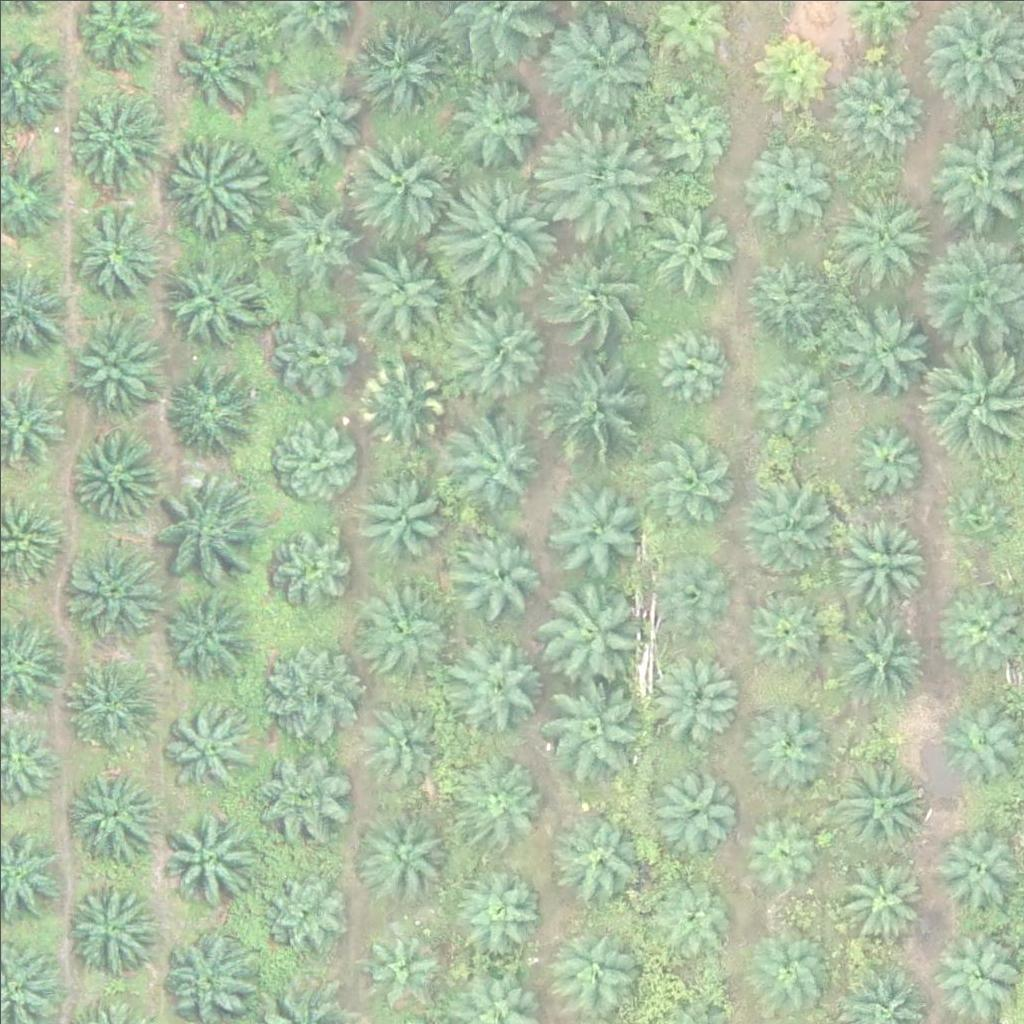Kelapa_Sawit: (536, 569, 649, 683), (146, 466, 259, 579), (438, 169, 550, 283), (537, 345, 649, 459), (341, 124, 453, 237), (545, 11, 657, 124), (545, 126, 657, 239), (541, 239, 653, 352), (63, 83, 163, 184), (159, 355, 259, 456), (163, 243, 263, 344), (163, 127, 263, 228), (348, 238, 448, 339), (449, 77, 549, 178), (537, 477, 637, 578), (638, 193, 738, 294), (743, 477, 843, 578), (834, 189, 934, 290), (830, 749, 930, 850), (827, 609, 927, 710), (552, 799, 652, 900), (537, 674, 637, 775), (353, 579, 453, 680), (253, 746, 353, 847), (255, 642, 355, 743), (152, 807, 252, 908), (159, 692, 259, 793), (155, 583, 255, 684), (61, 540, 161, 641), (62, 764, 162, 865), (64, 422, 164, 522), (63, 317, 163, 417), (161, 12, 261, 112), (260, 68, 360, 168), (353, 12, 453, 112), (454, 296, 554, 396), (829, 511, 929, 611), (835, 295, 935, 395), (446, 637, 546, 737), (54, 654, 154, 754), (59, 878, 159, 978), (648, 319, 736, 408), (456, 530, 544, 618), (455, 414, 543, 502), (640, 430, 728, 518), (746, 357, 834, 445), (932, 822, 1020, 910), (555, 924, 643, 1012), (457, 859, 545, 947), (355, 815, 443, 903), (260, 865, 348, 953), (362, 921, 449, 1010), (69, 210, 156, 298), (266, 516, 353, 604), (269, 407, 356, 495), (266, 308, 353, 396), (269, 191, 356, 279), (359, 355, 446, 443), (360, 470, 447, 558), (744, 252, 831, 340), (649, 82, 736, 170), (834, 72, 921, 160), (747, 141, 834, 229), (934, 577, 1021, 665), (836, 849, 923, 937), (741, 585, 828, 673), (741, 703, 828, 791), (734, 807, 821, 895), (746, 930, 833, 1018), (647, 867, 734, 955), (648, 758, 735, 846), (651, 650, 738, 738), (459, 752, 546, 840), (361, 694, 448, 782), (849, 419, 924, 495), (649, 552, 724, 628), (750, 33, 825, 108), (951, 488, 1013, 551)
